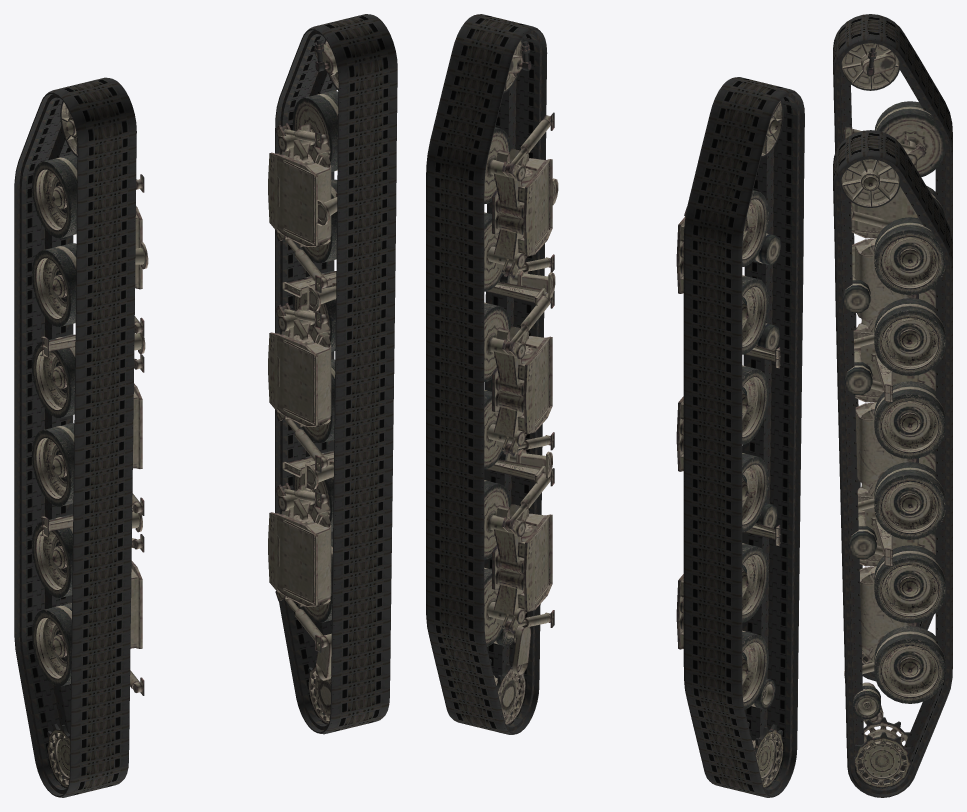
Rendered from Chassis.glb.
3 views of the same model, side by side, from view 1: azimuth 30°, elevation 25°; view 2: azimuth 150°, elevation 25°; view 3: azimuth 270°, elevation 25° (orthographic). The views are drawn at different scales.
Visible parts, largest first — view 1: set_0_group_0, set_1_group_0, set_3_group_0, set_2_group_0; view 2: set_0_group_0, set_1_group_0, set_3_group_0, set_2_group_0; view 3: set_3_group_0, set_1_group_0, set_2_group_0, set_0_group_0.
Part boxes in pixels (x1=…): set_0_group_0: x1=14, y1=77, x2=136, y2=797; set_1_group_0: x1=275, y1=14, x2=397, y2=734; set_3_group_0: x1=268, y1=39, x2=338, y2=724; set_2_group_0: x1=32, y1=101, x2=148, y2=787; set_0_group_0: x1=683, y1=77, x2=804, y2=797; set_1_group_0: x1=426, y1=14, x2=547, y2=734; set_3_group_0: x1=484, y1=39, x2=558, y2=724; set_2_group_0: x1=676, y1=100, x2=783, y2=787; set_3_group_0: x1=835, y1=159, x2=945, y2=787; set_1_group_0: x1=833, y1=130, x2=952, y2=797; set_2_group_0: x1=840, y1=43, x2=945, y2=664; set_0_group_0: x1=833, y1=14, x2=952, y2=681.
Bounding box in the file's own units: 3.46 × 7.04 × 1.19.
4 materials, 4 textured.
